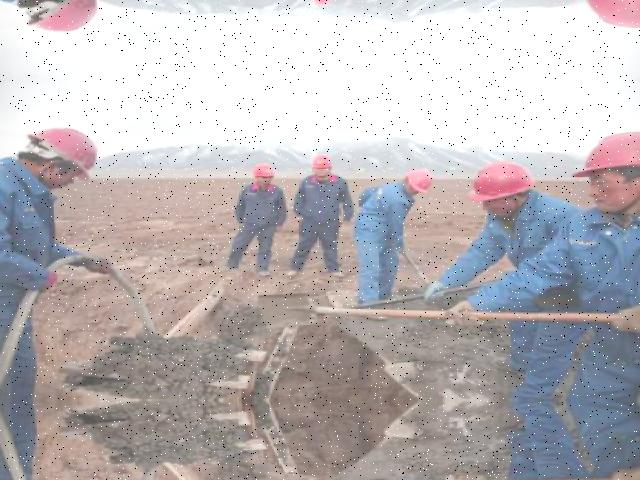Helmet: (21, 121, 105, 185), (571, 128, 640, 188), (462, 158, 544, 205), (403, 166, 440, 196), (252, 161, 280, 183), (313, 151, 338, 171)
